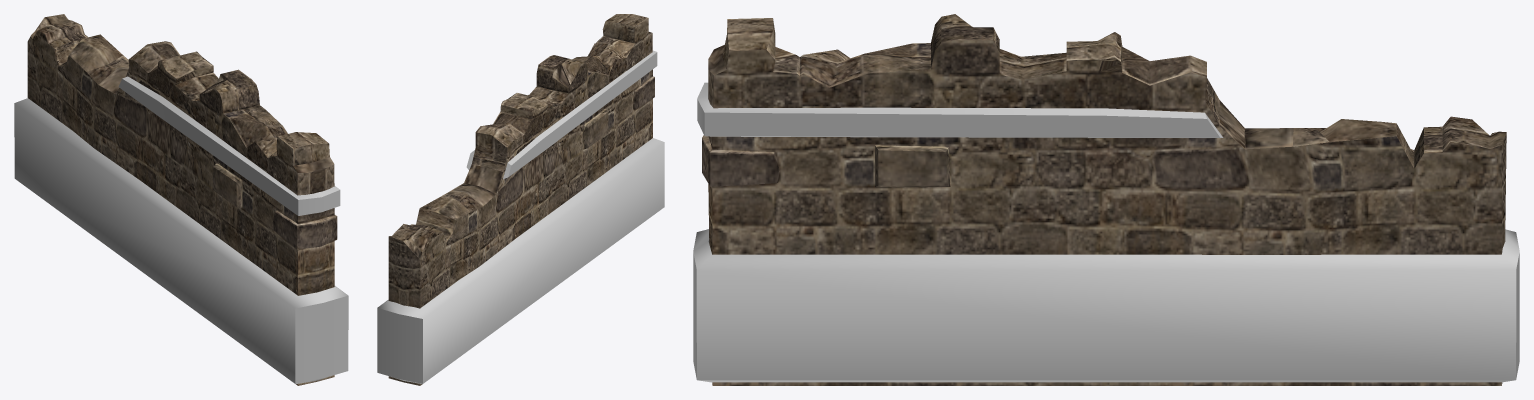
The model's file is SM_EN_2003_CastleWall_Ruin_01.FBX.
3 views of the same model, side by side, from view 1: azimuth 30°, elevation 25°; view 2: azimuth 150°, elevation 25°; view 3: azimuth 270°, elevation 25° (orthographic). The views are drawn at different scales.
Parts seen in each view (by area): view 1: SM_EN_2003_CastleWall_Ruin_01a, SM_EN_2003_CastleWall_Ruin_01b; view 2: SM_EN_2003_CastleWall_Ruin_01a, SM_EN_2003_CastleWall_Ruin_01b; view 3: SM_EN_2003_CastleWall_Ruin_01a, SM_EN_2003_CastleWall_Ruin_01b.
Boxes of the visible parts, x1,y1,x2,y2 form: SM_EN_2003_CastleWall_Ruin_01a: (27, 14, 337, 385); SM_EN_2003_CastleWall_Ruin_01b: (14, 76, 348, 383); SM_EN_2003_CastleWall_Ruin_01a: (388, 14, 654, 385); SM_EN_2003_CastleWall_Ruin_01b: (377, 50, 664, 383); SM_EN_2003_CastleWall_Ruin_01a: (702, 14, 1506, 385); SM_EN_2003_CastleWall_Ruin_01b: (693, 82, 1519, 382).
Size of the model in its own units: 22.69 by 96.34 by 209.
